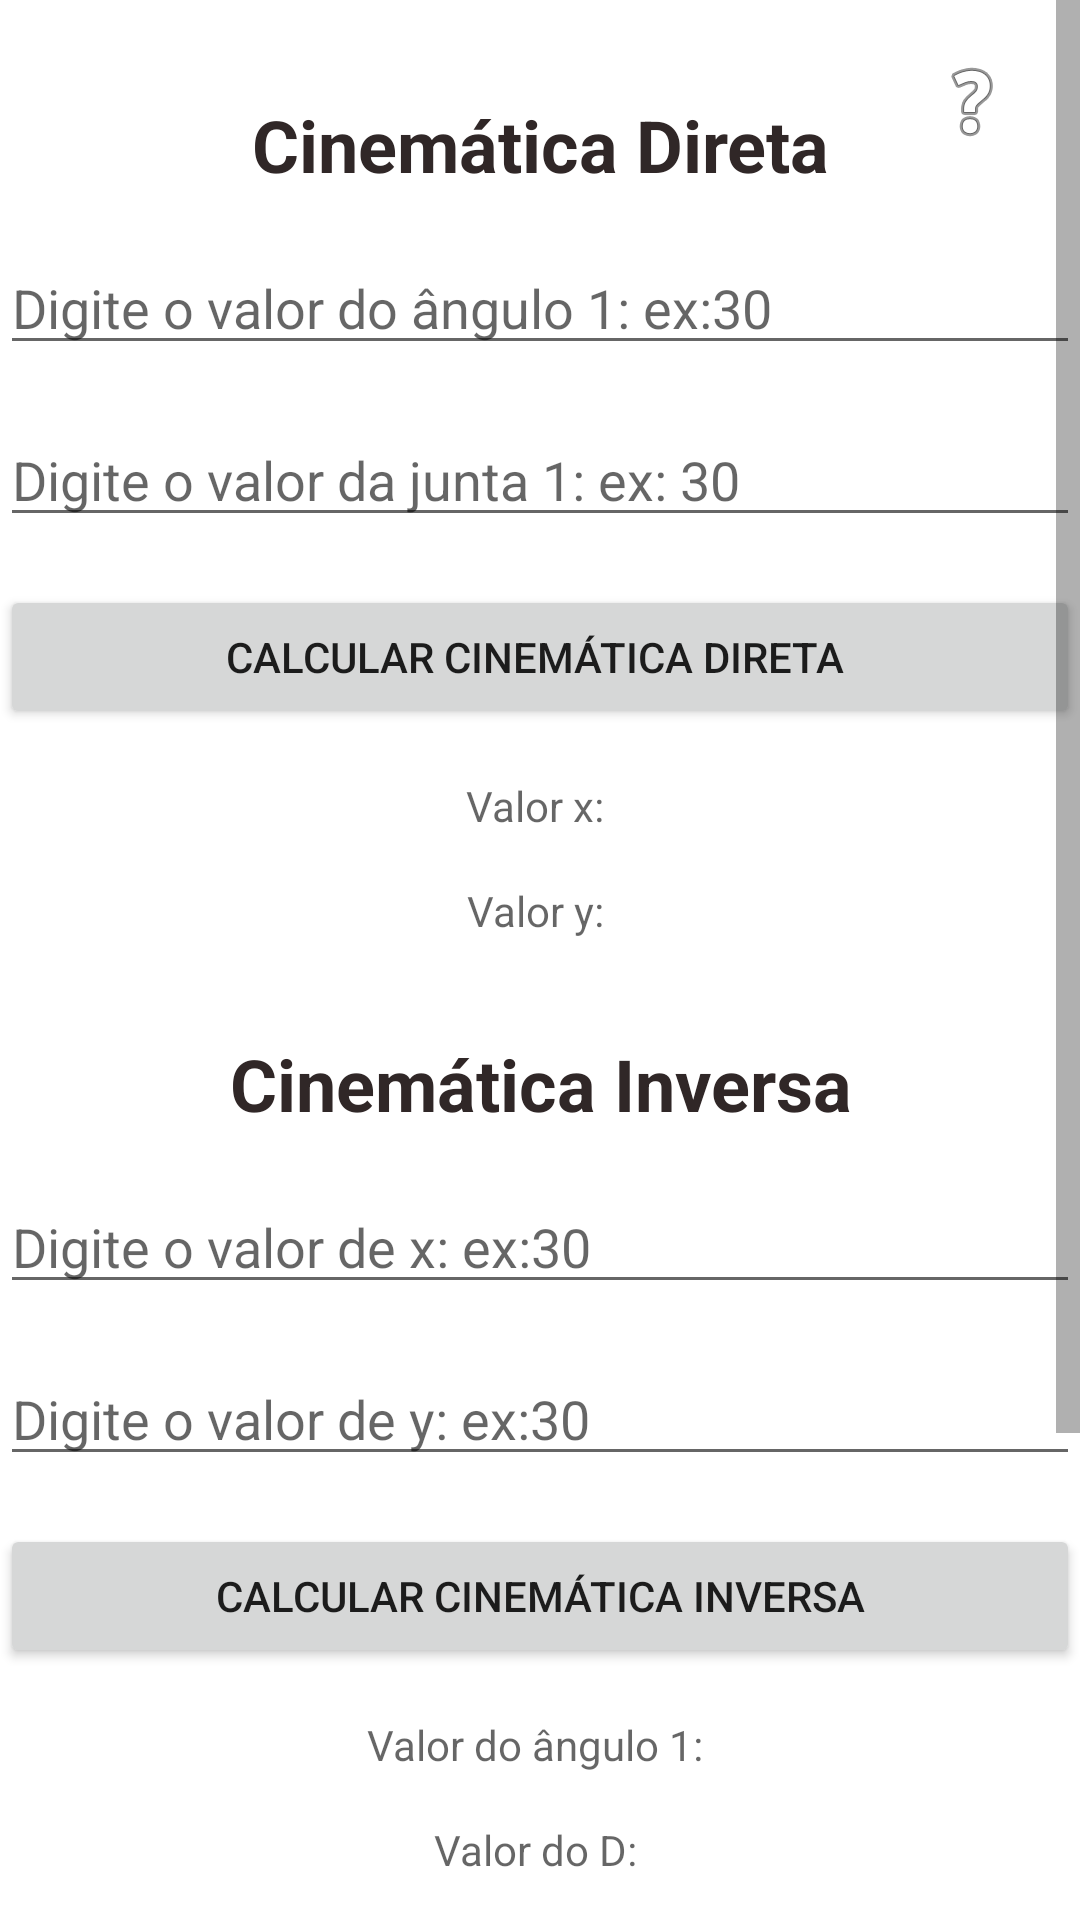

Icon click points for this 1080x1920 phone screenshot, format (x=x, y=y):
help: (x=972, y=102)
